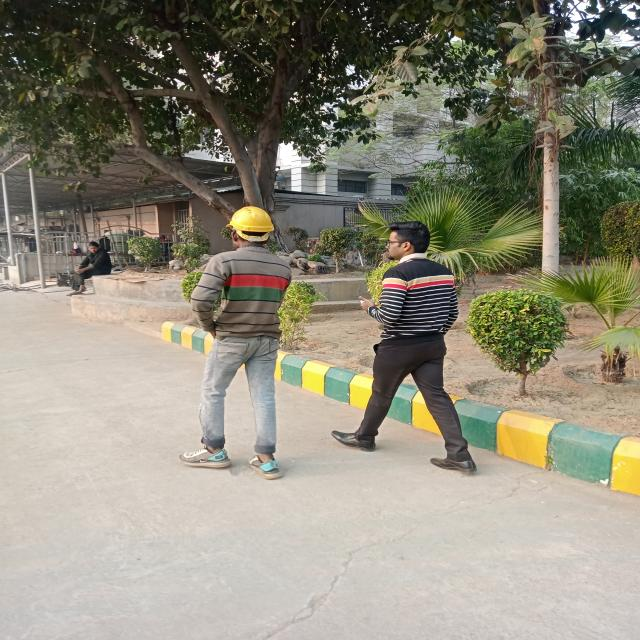no jacket: (190, 203, 302, 482)
unsafe: (348, 222, 479, 476)
